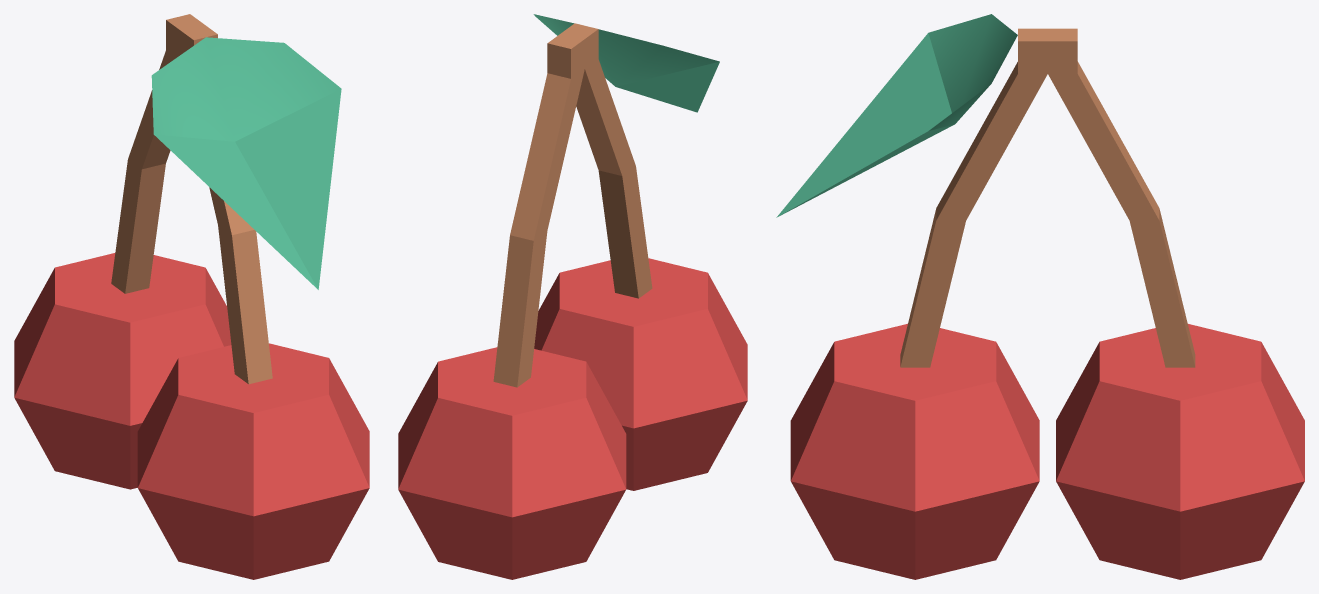
The model's file is cherries.obj.
3 views of the same model, side by side, from view 1: azimuth 30°, elevation 25°; view 2: azimuth 150°, elevation 25°; view 3: azimuth 270°, elevation 25° (orthographic). The views are drawn at different scales.
Parts seen in each view (by area): view 1: cherries; view 2: cherries; view 3: cherries.
Boxes of the visible parts, x1=… form: cherries: x1=14, y1=14, x2=369, y2=579; cherries: x1=398, y1=14, x2=747, y2=579; cherries: x1=776, y1=14, x2=1304, y2=579.
Size of the model in its own units: 0.088 by 0.1707 by 0.1619.
